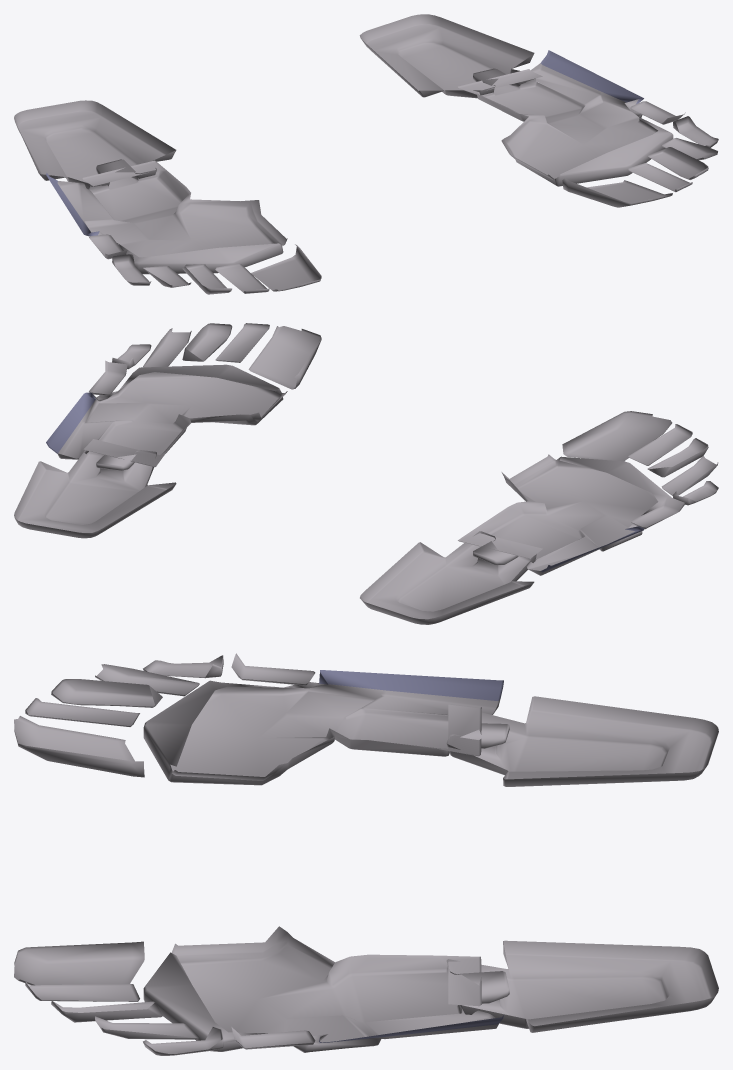
Rendered from Adam_Footprints.fbx.
3 views of the same model, one above another, from view 1: azimuth 30°, elevation 25°; view 2: azimuth 150°, elevation 25°; view 3: azimuth 270°, elevation 25° (orthographic). The views are drawn at different scales.
Parts seen in each view (by area): view 1: mesh_Adam_legs.001; view 2: mesh_Adam_legs.001; view 3: mesh_Adam_legs.001.
Part boxes in pixels (x1=…): mesh_Adam_legs.001: x1=14, y1=14, x2=718, y2=294; mesh_Adam_legs.001: x1=14, y1=323, x2=718, y2=624; mesh_Adam_legs.001: x1=14, y1=653, x2=718, y2=1055.
Bounding box in the file's own units: 32.45 × 1.48 × 24.68.
